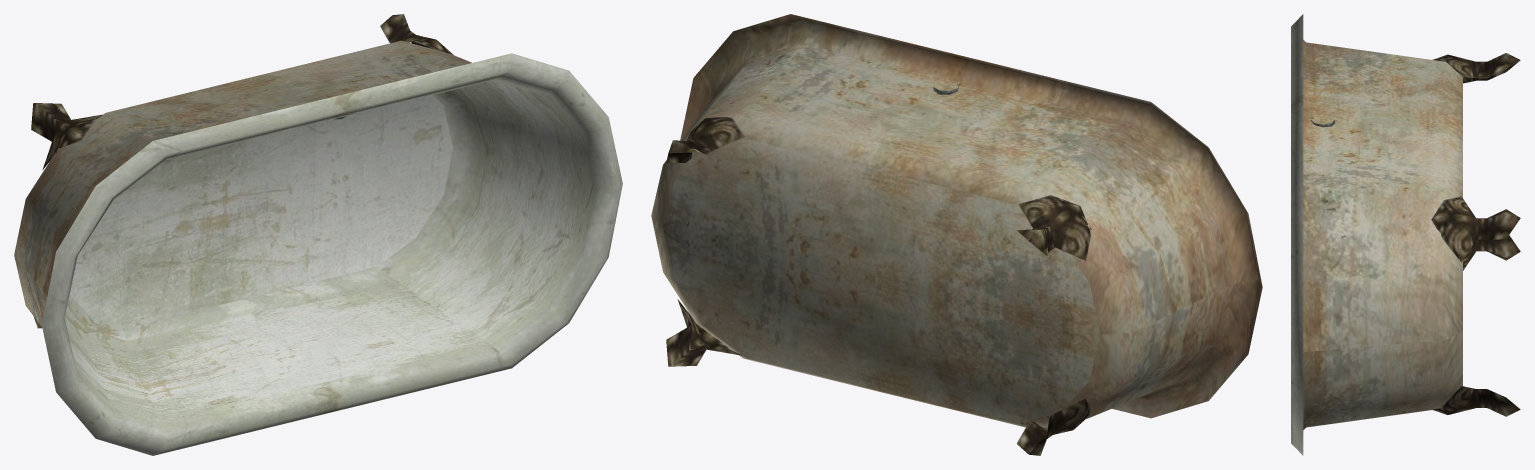
File: furniture_frenchbathtubporcelain.glb
3 renders of one model, left to right at view 1: azimuth 30°, elevation 25°; view 2: azimuth 150°, elevation 25°; view 3: azimuth 270°, elevation 25°, orthographic. The views are drawn at different scales.
Bounding box in the file's own units: 76.45 × 39.62 × 29.03.
Materials: 1 (1 with a texture image).
